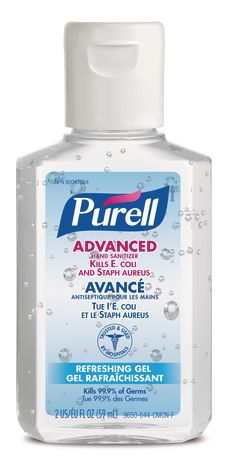Sanitizer: (6, 16, 218, 450)
